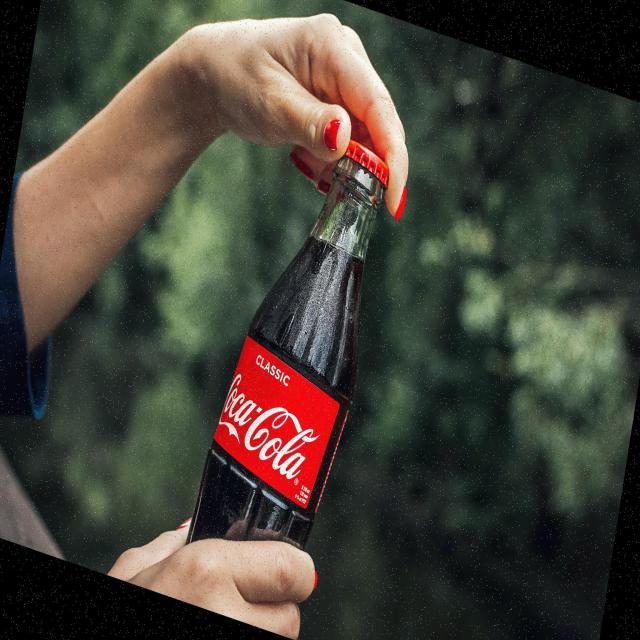coca-cola: (215, 366, 325, 494)
